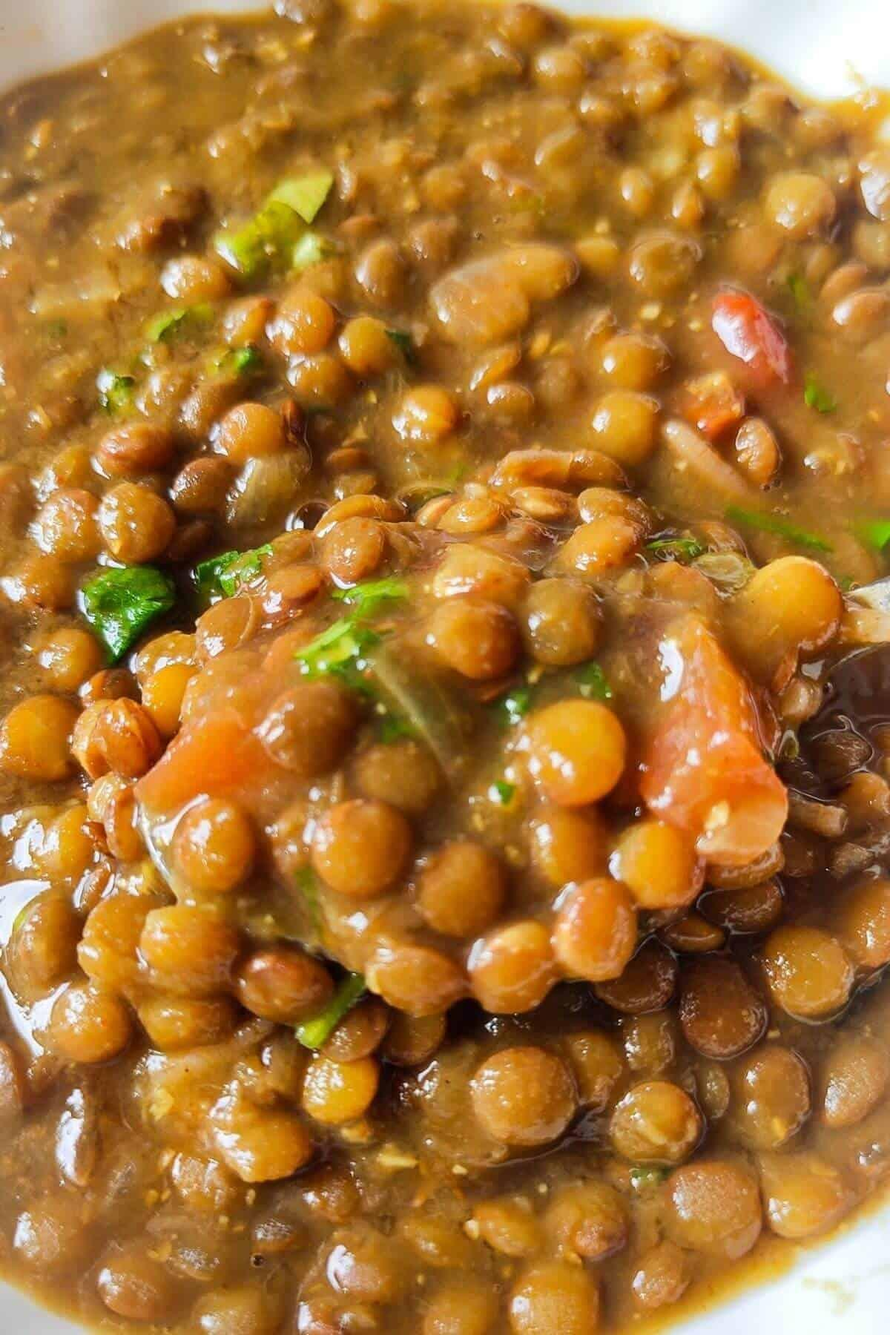daal: (2, 1, 890, 1335)
